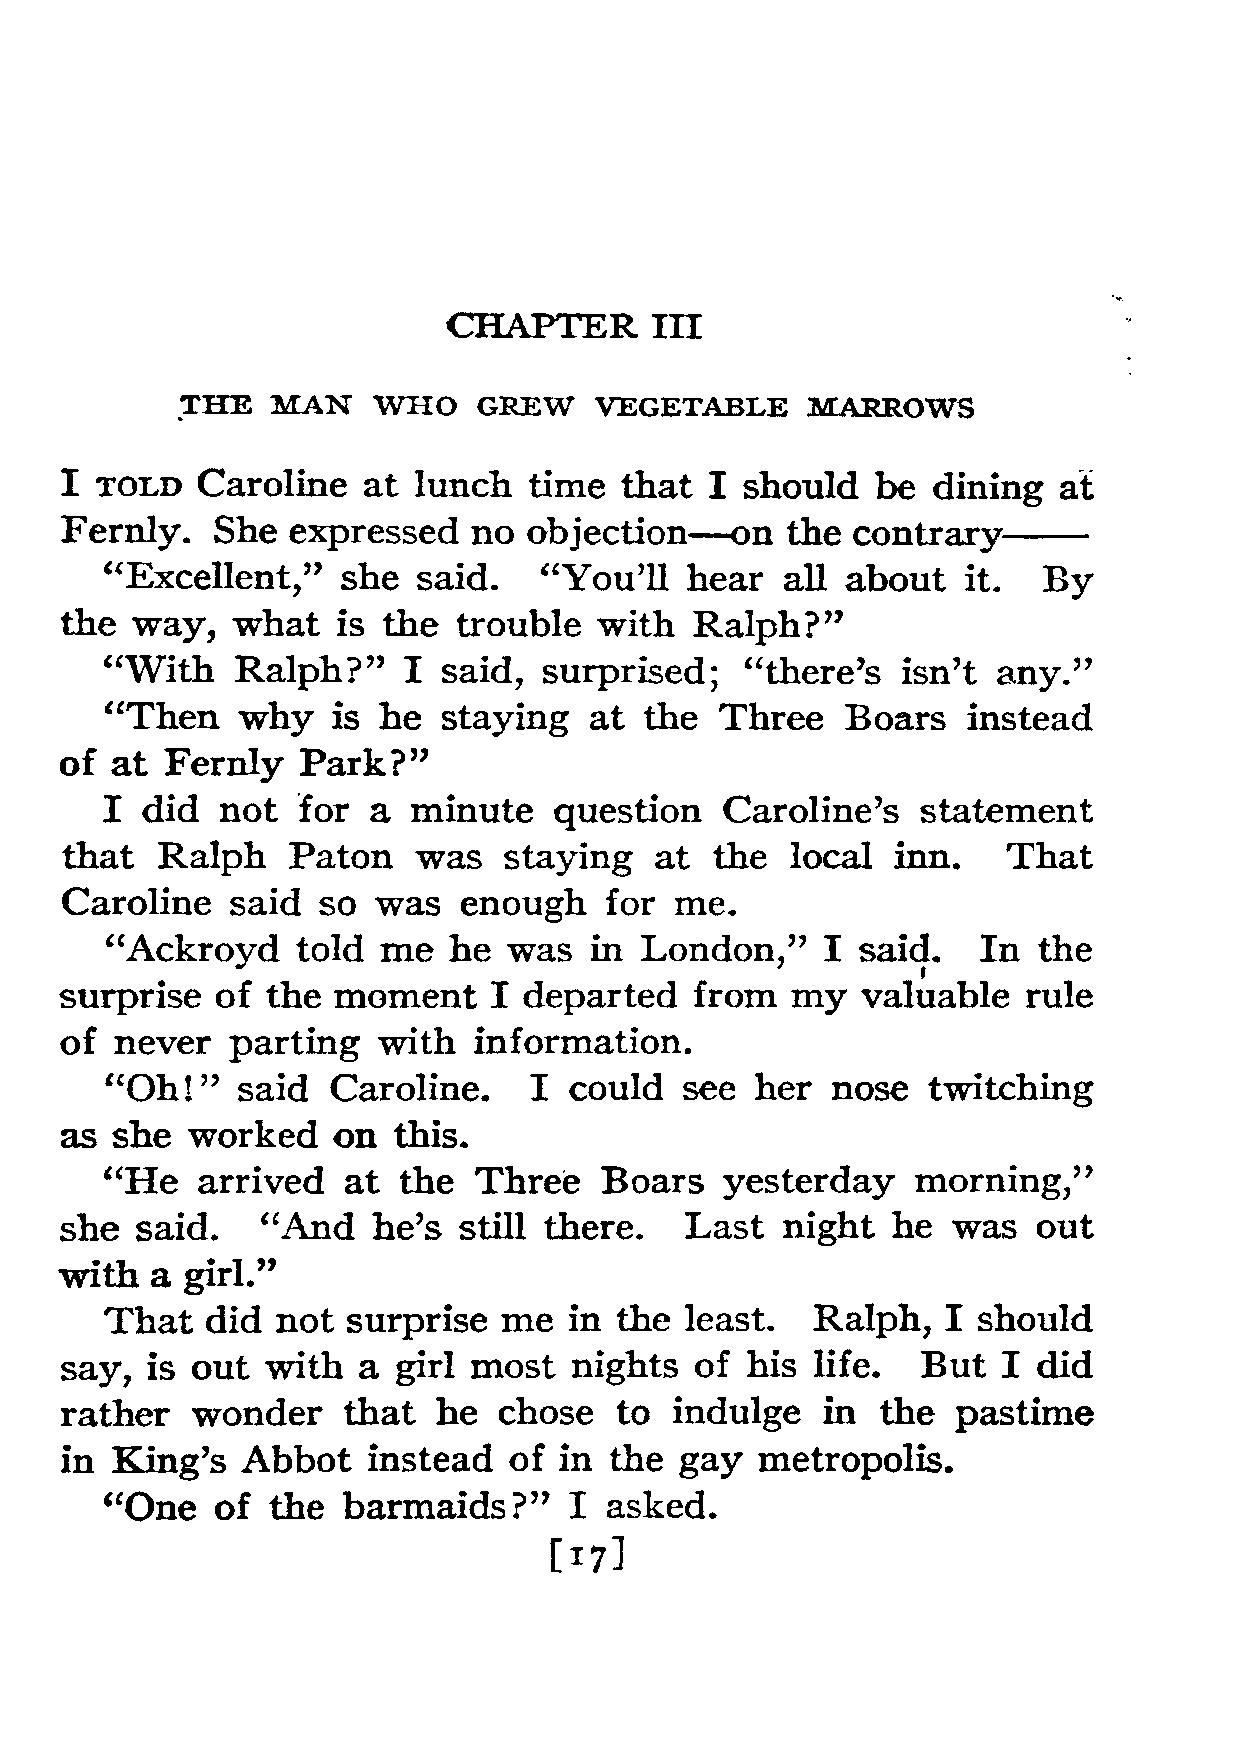chapter: (178, 311, 974, 419)
content: (56, 463, 1095, 1522)
content_pagenumber: (568, 1543, 608, 1577)
